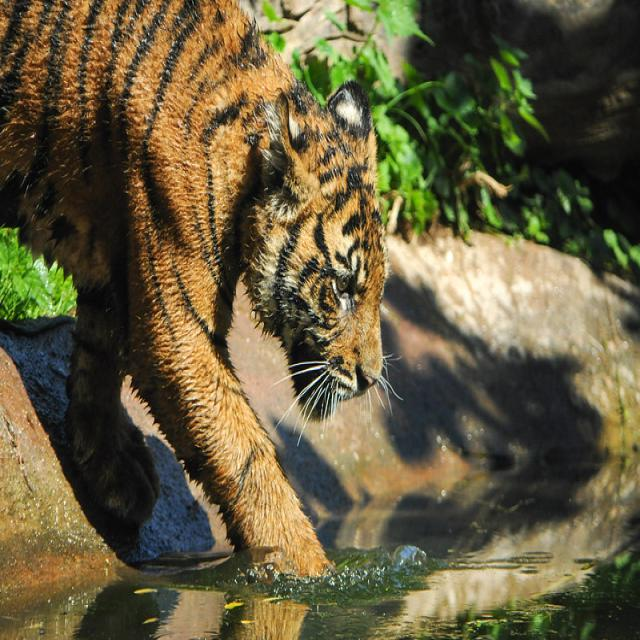Tiger: (0, 2, 387, 581)
